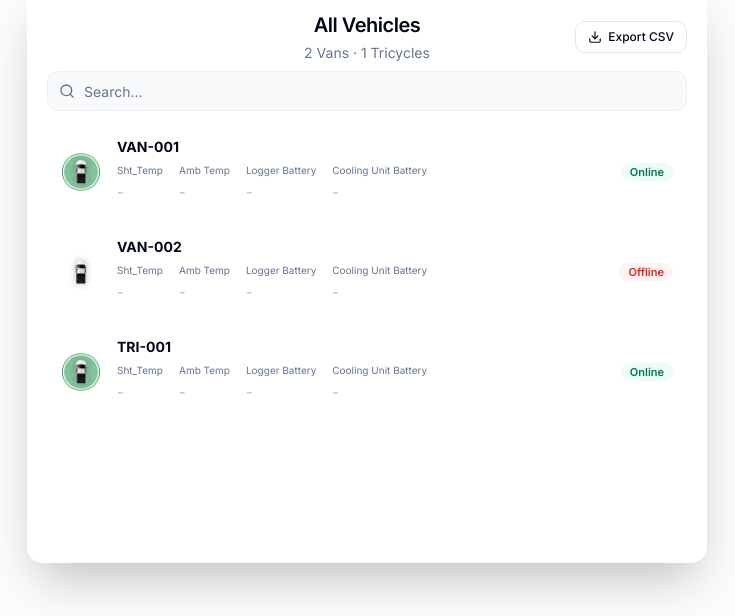
Test: VansListModal › shows the empty-state message when no vehicles match the search
Type "no-such-plate" into the field with placeholder "Search..." at (367, 91), box [47,71,687,111]
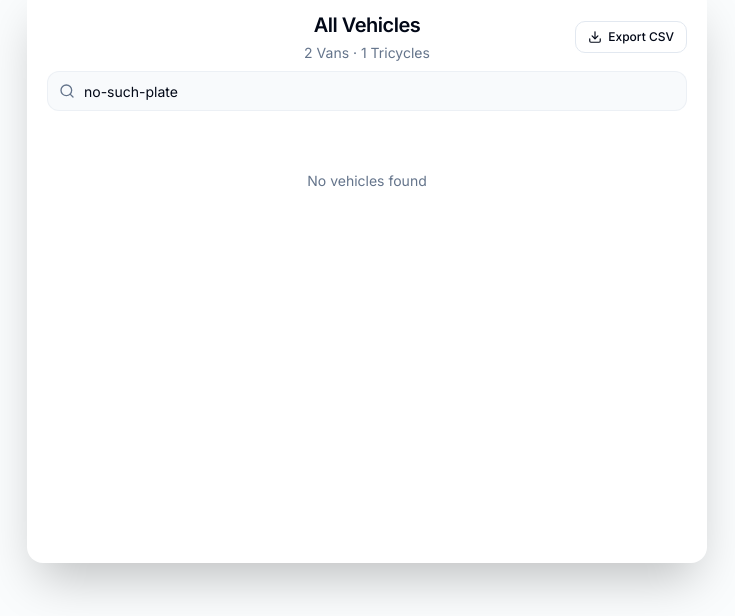
Now the text "No vehicles found" is shown, box [307,172,427,189]
